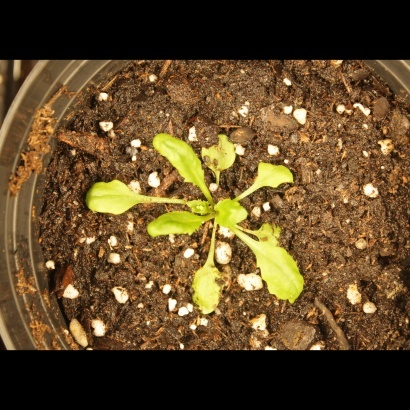leaf: (243, 235, 312, 308), (79, 167, 146, 220), (186, 249, 232, 325), (149, 129, 201, 188), (200, 125, 244, 180), (141, 211, 208, 243), (245, 158, 304, 192), (251, 214, 291, 249), (212, 196, 251, 229), (183, 193, 218, 220)
